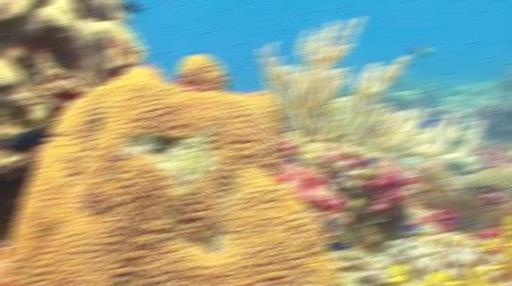Fish: (4, 118, 61, 153), (120, 0, 145, 16), (324, 216, 341, 233), (325, 241, 352, 251), (410, 46, 433, 56), (418, 118, 435, 128), (286, 155, 303, 165), (364, 158, 377, 170)
